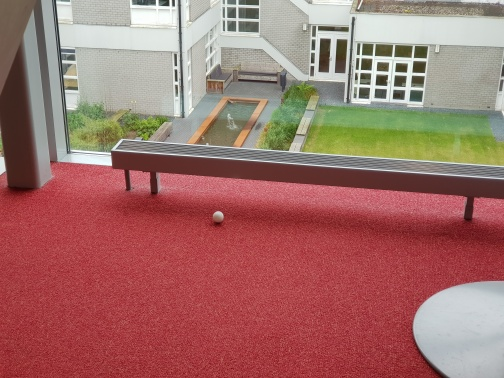egg: (209, 209, 225, 224)
